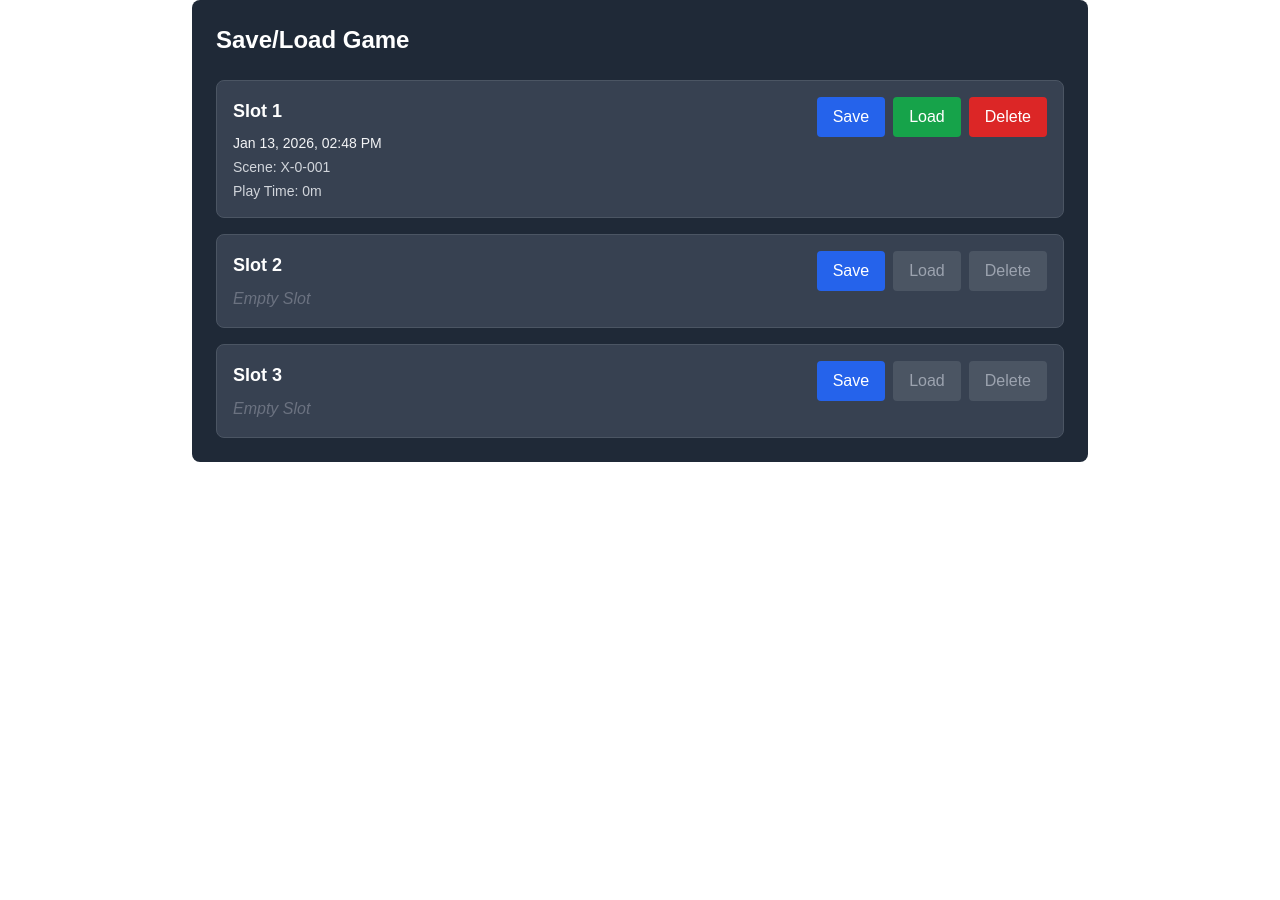
SaveLoadMenu › should show confirmation dialog when loading
The width and height of the screenshot is (1280, 900).
Click the 1st button "Load": (927,117) [893,97,961,137]
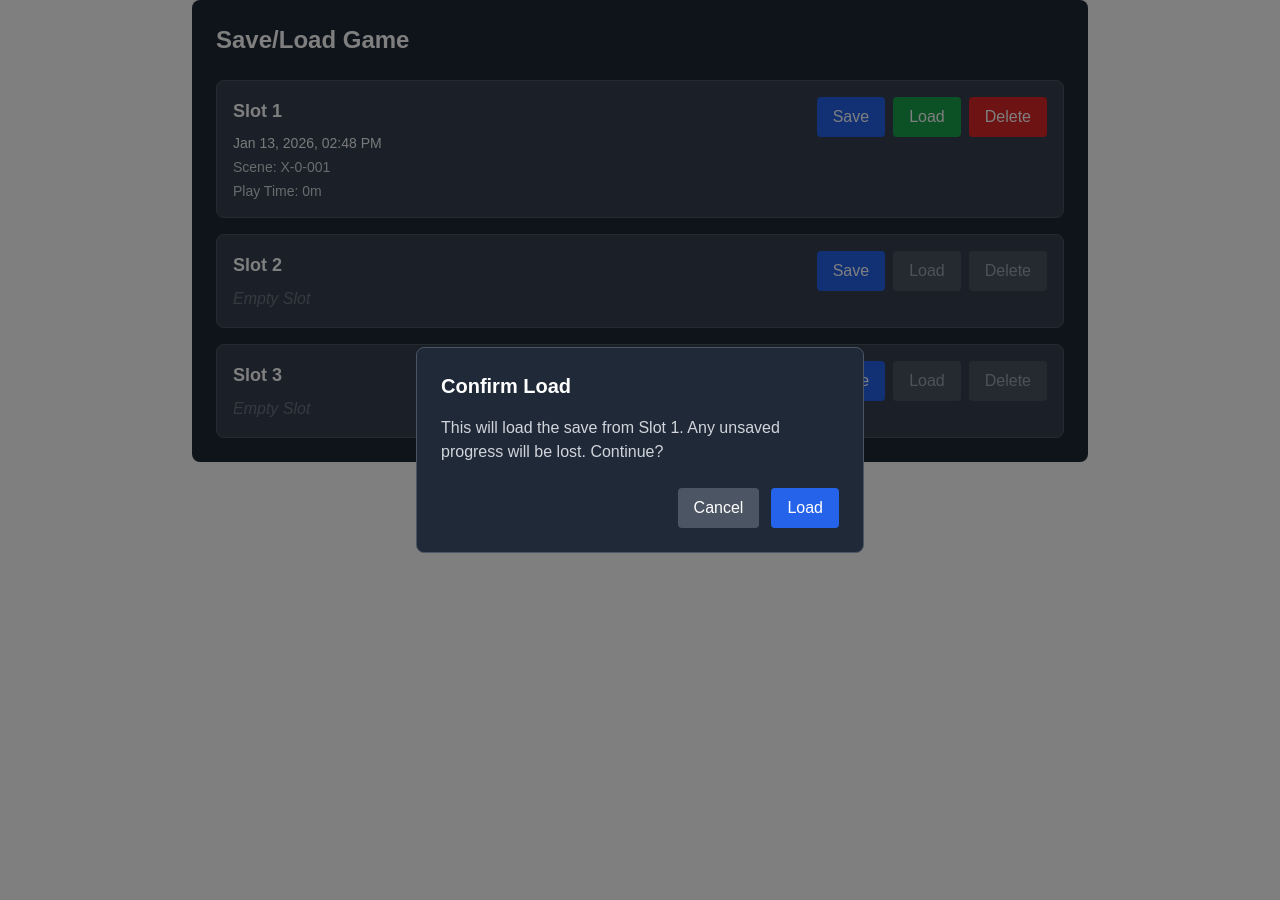
Expected: the heading "Confirm Load" is shown, [441,375,571,397]
Expected: the text "Any unsaved progress will be lost" is shown, [441,419,780,460]
